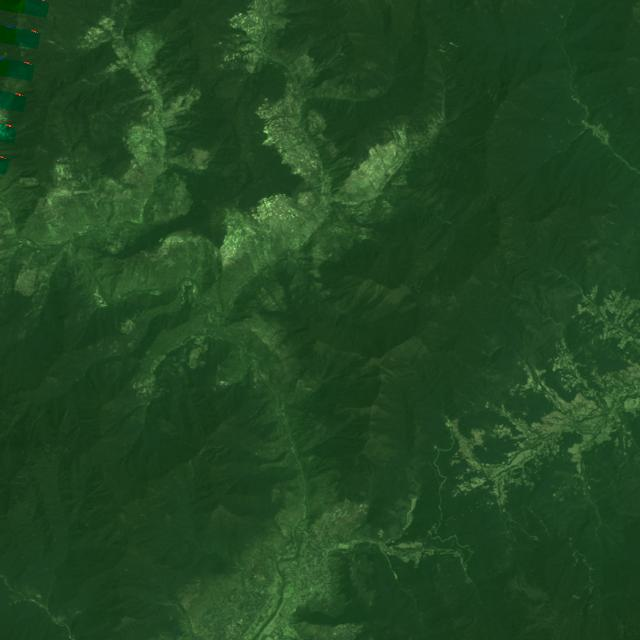landslides: (259, 451, 292, 471), (207, 245, 218, 270), (596, 108, 607, 131), (49, 225, 59, 244), (584, 133, 596, 148), (95, 193, 108, 206), (40, 268, 51, 282), (159, 336, 169, 350), (73, 213, 83, 227), (154, 136, 167, 146), (297, 434, 309, 444), (101, 338, 107, 357), (502, 452, 516, 460), (19, 177, 37, 183), (26, 532, 38, 541), (432, 118, 440, 131)
